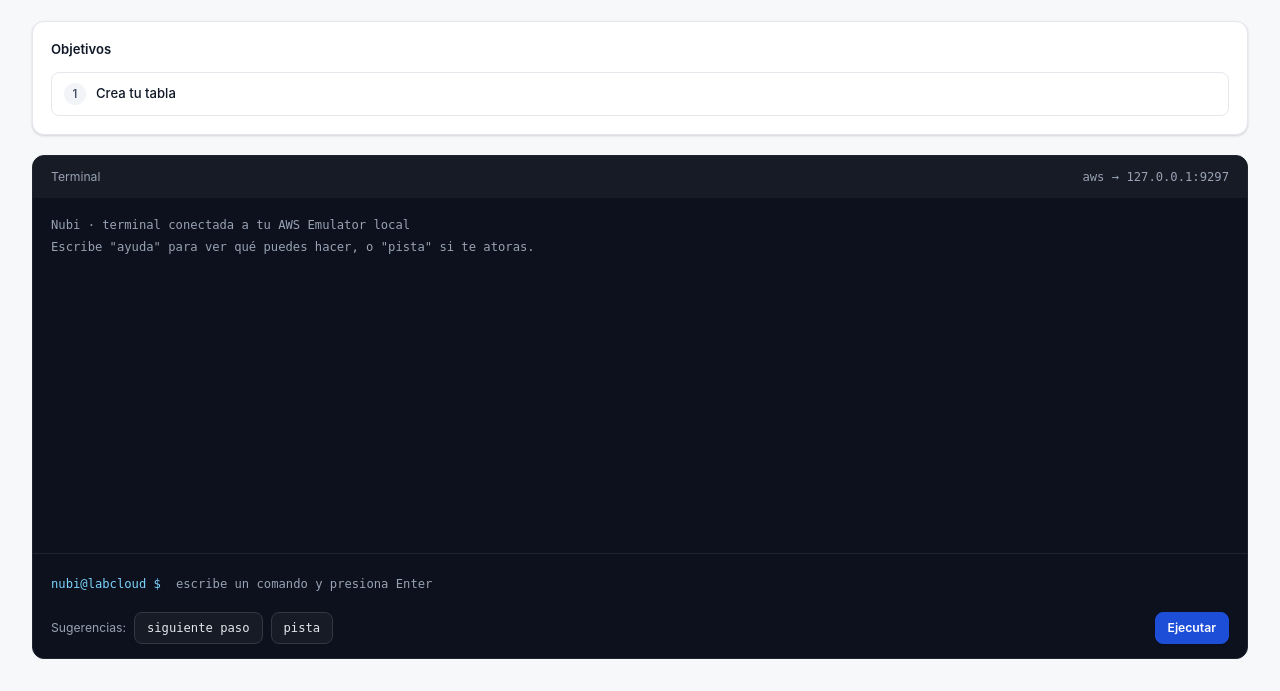
Test: the DynamoDB lab suggests only applicable commands and expands its table name
(page scrolled)
Click the button "siguiente paso" at (198, 628), box [134,612,262,644]
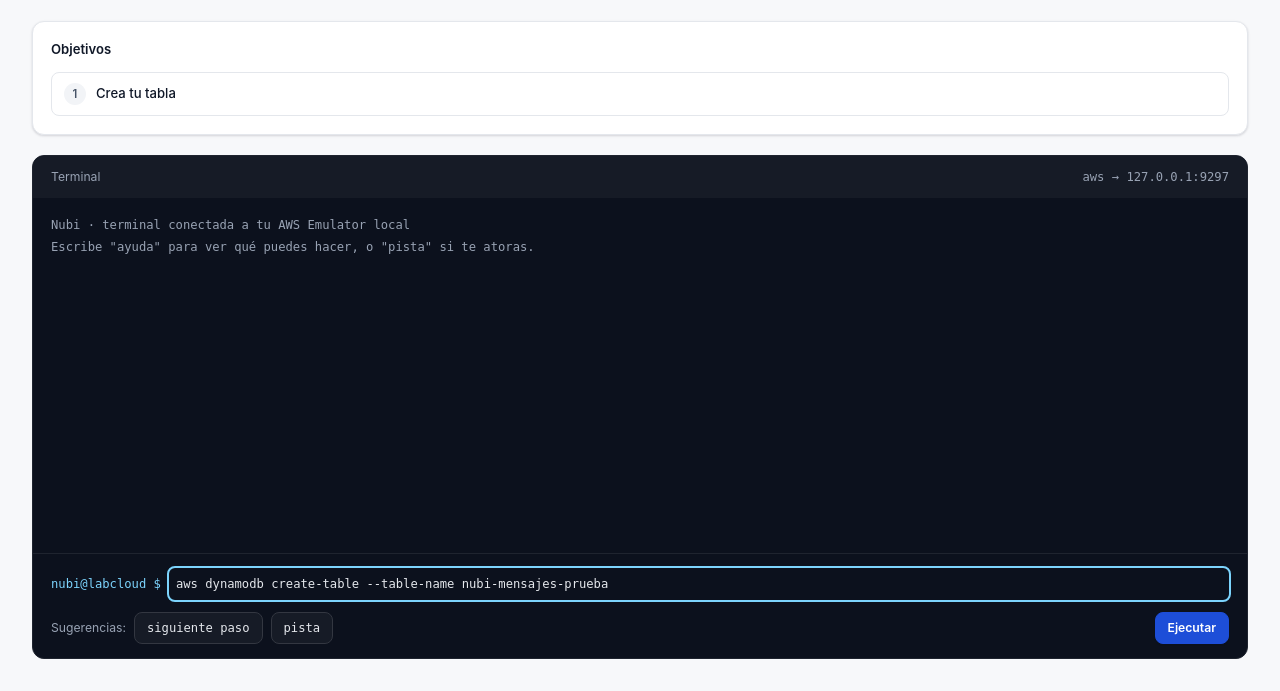
Expected: the field named "comando" holds "aws dynamodb create-table --table-name nubi-mensajes-prueba", [169,568,1229,600]
